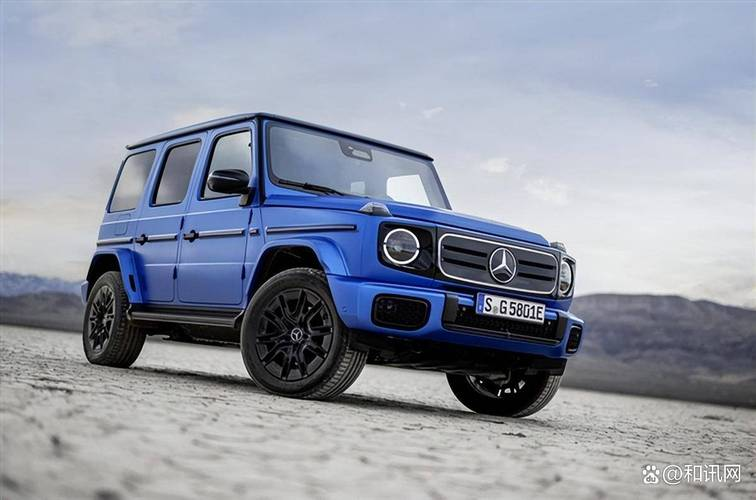汽车: (75, 111, 572, 420)
